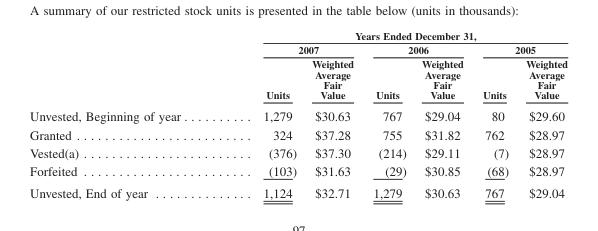table: (29, 29, 567, 199)
table column: (29, 29, 224, 199), (224, 29, 303, 199), (303, 29, 362, 199), (413, 29, 472, 199), (362, 29, 413, 199), (516, 29, 567, 199), (472, 29, 516, 199)
table column header: (29, 29, 567, 104)
table row: (29, 56, 567, 104), (29, 104, 567, 125), (29, 161, 567, 181), (29, 125, 567, 143), (29, 143, 567, 161), (29, 181, 567, 199), (29, 42, 567, 56), (29, 29, 567, 42)
table spanning cell: (224, 29, 567, 42), (224, 42, 362, 56), (362, 42, 472, 56), (472, 42, 567, 56)
